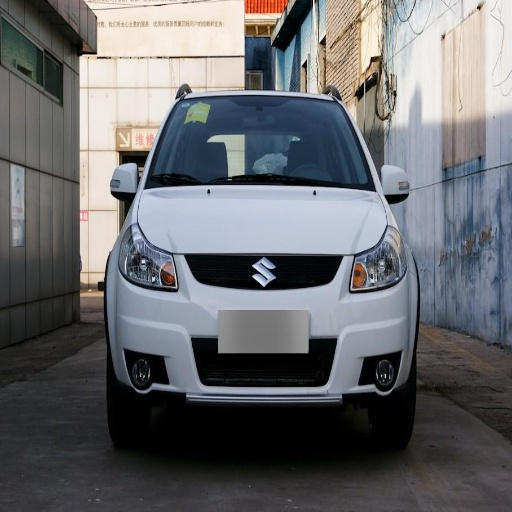front_bumper: (110, 252, 415, 404)
front_right_light: (119, 228, 177, 290)
hood: (137, 188, 387, 254)
